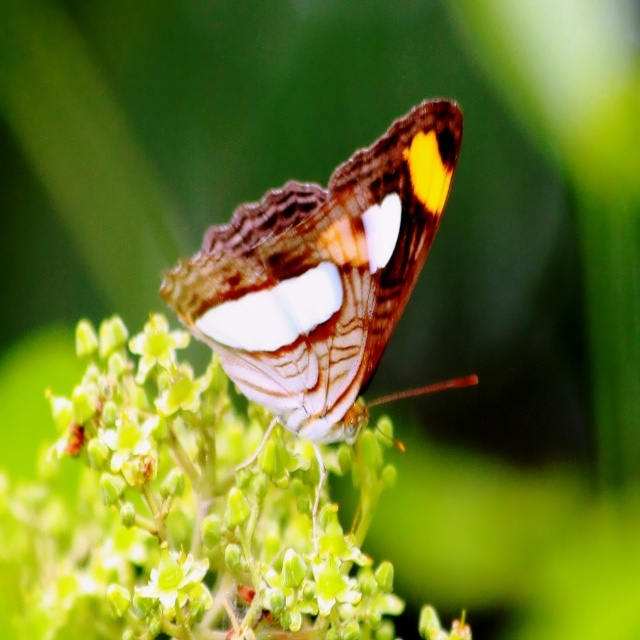Butterfly: (160, 112, 472, 481)
